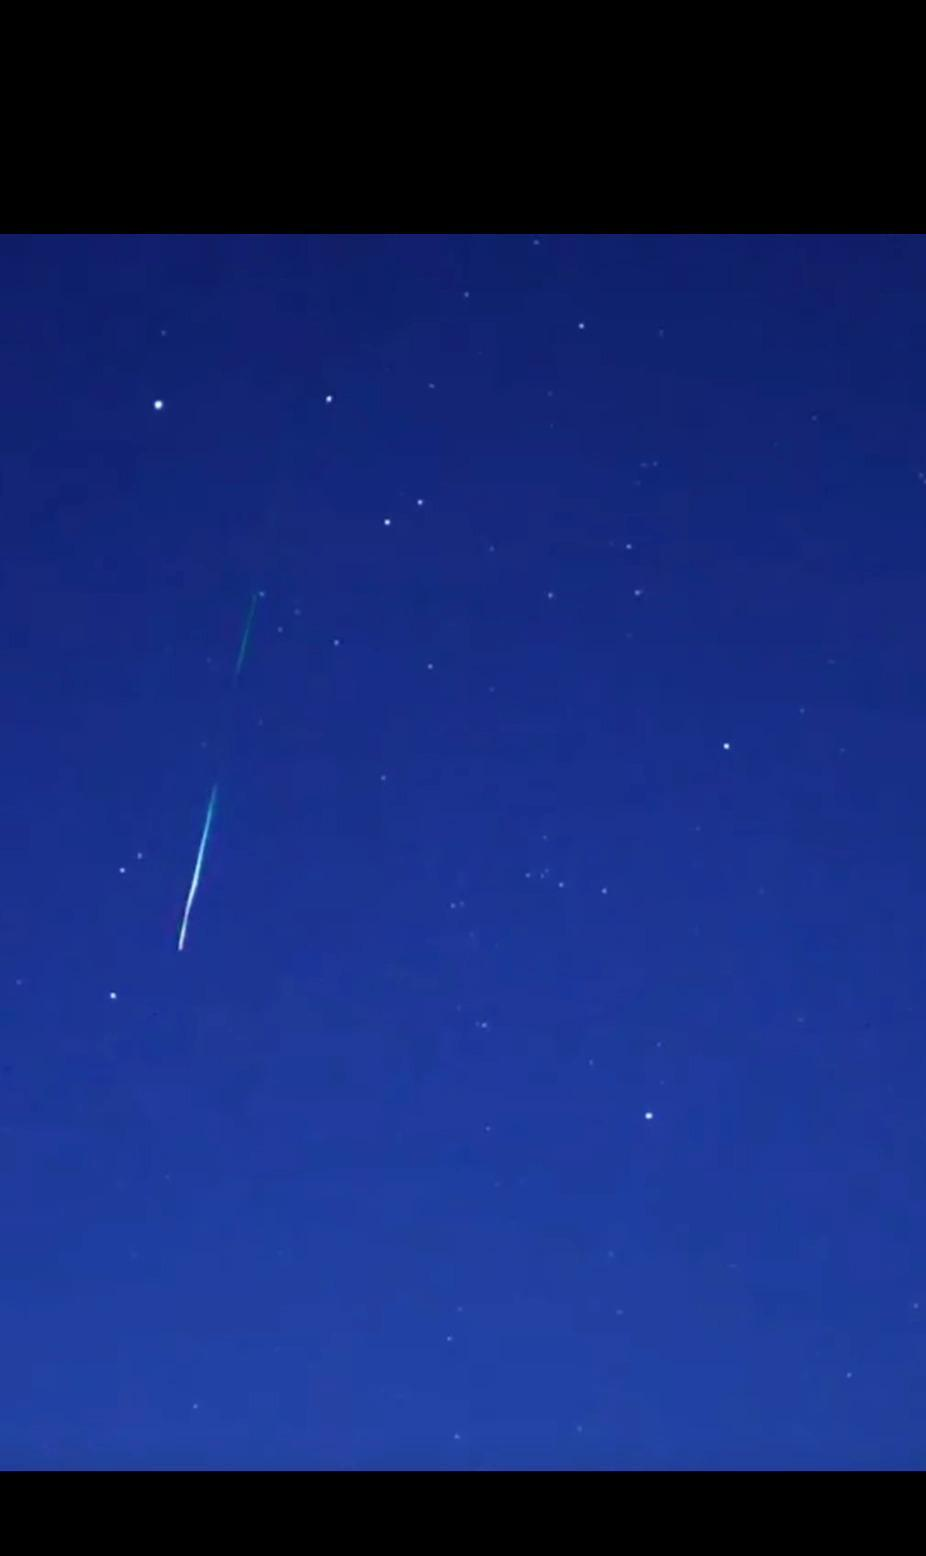meteorite: (161, 757, 243, 965)
